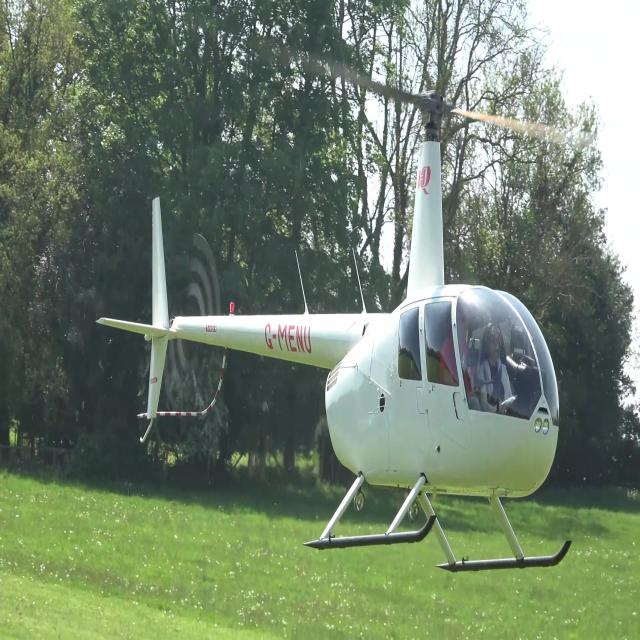CIV_HELO: (92, 91, 572, 579)
